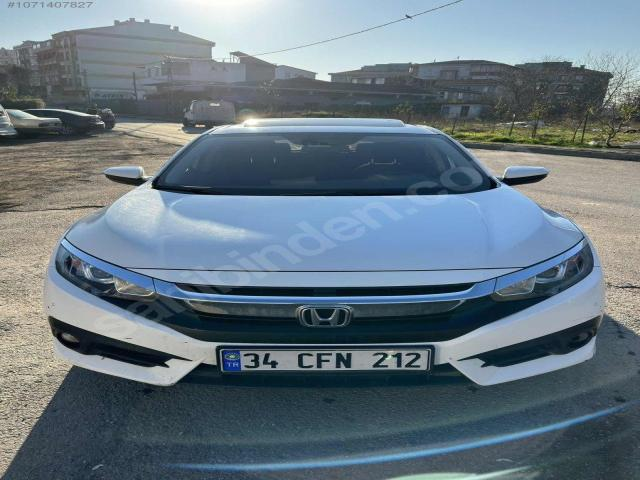plaka: (220, 349, 433, 372)
